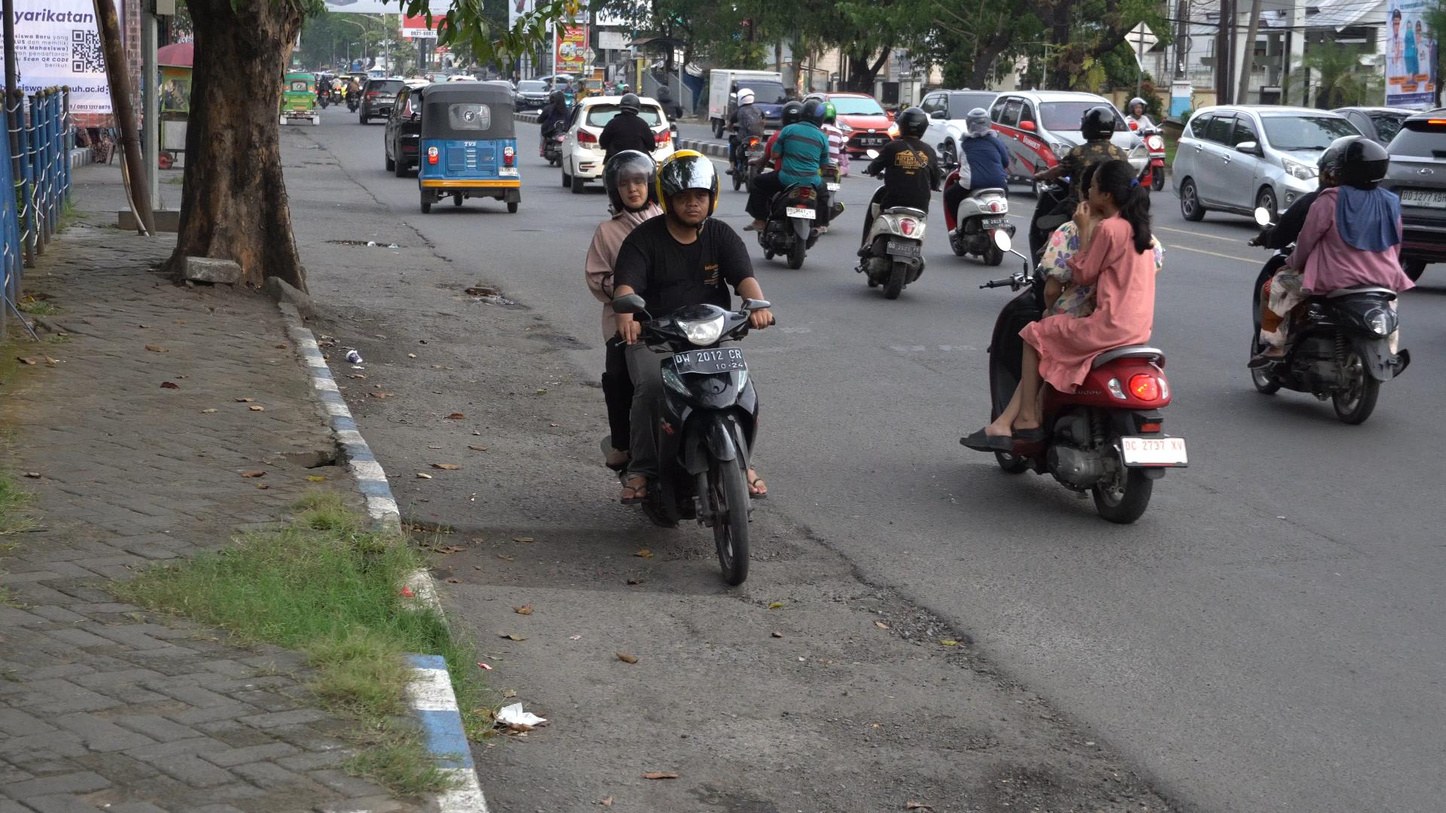number-plate: (672, 345, 749, 378)
